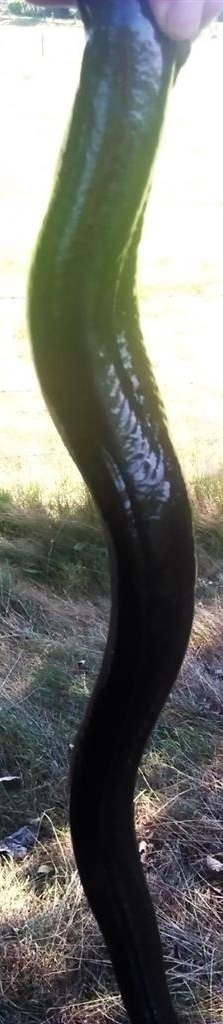Anguilla anguilla: (20, 1, 203, 1024)
